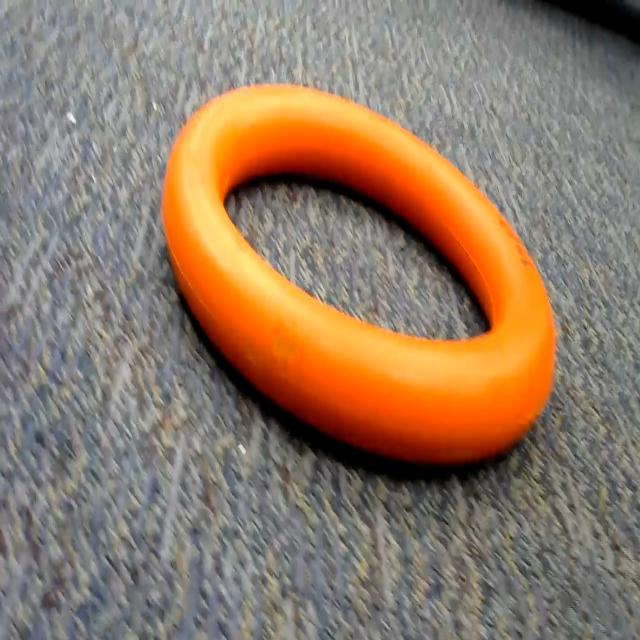note: (159, 56, 575, 492)
